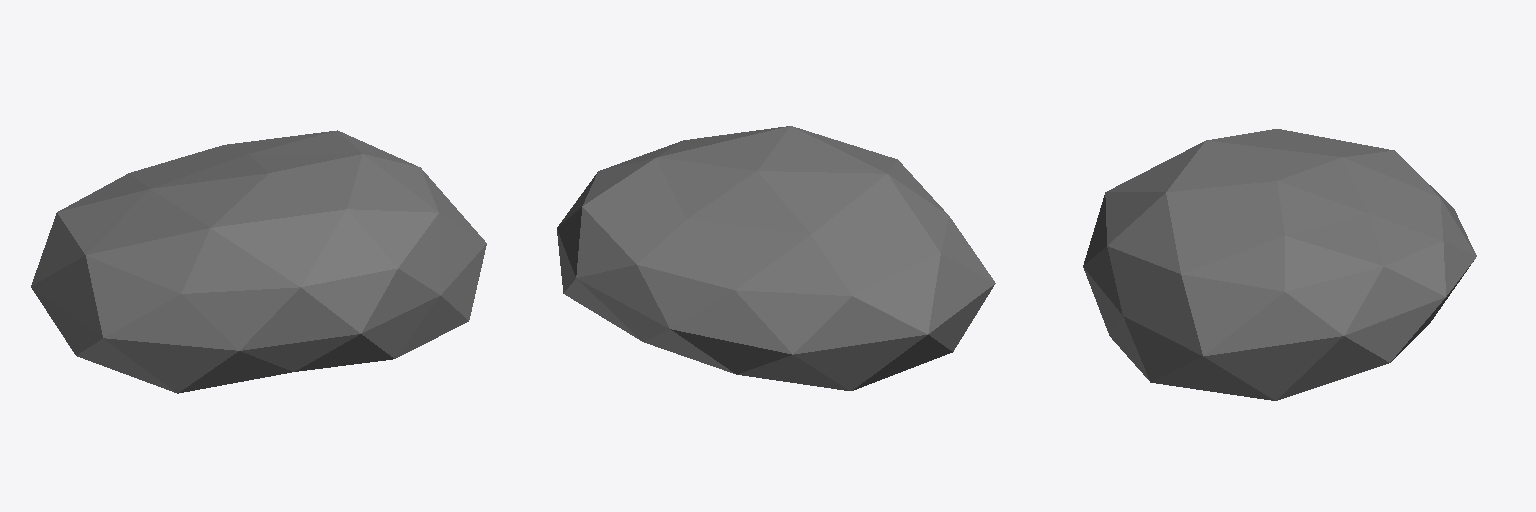
File: rock.obj
3 renders of one model, left to right at view 1: azimuth 30°, elevation 25°; view 2: azimuth 150°, elevation 25°; view 3: azimuth 270°, elevation 25°, orthographic.
Parts seen in each view (by area): view 1: rock:Mesh rock:polySurface2 rock:polySurface1; view 2: rock:Mesh rock:polySurface2 rock:polySurface1; view 3: rock:Mesh rock:polySurface2 rock:polySurface1.
Part boxes in pixels (x1,y1,x2,y2): rock:Mesh rock:polySurface2 rock:polySurface1: (31, 130, 486, 393); rock:Mesh rock:polySurface2 rock:polySurface1: (557, 126, 995, 390); rock:Mesh rock:polySurface2 rock:polySurface1: (1083, 129, 1476, 400).
Bounding box in the file's own units: 6.13 × 2.46 × 5.43.